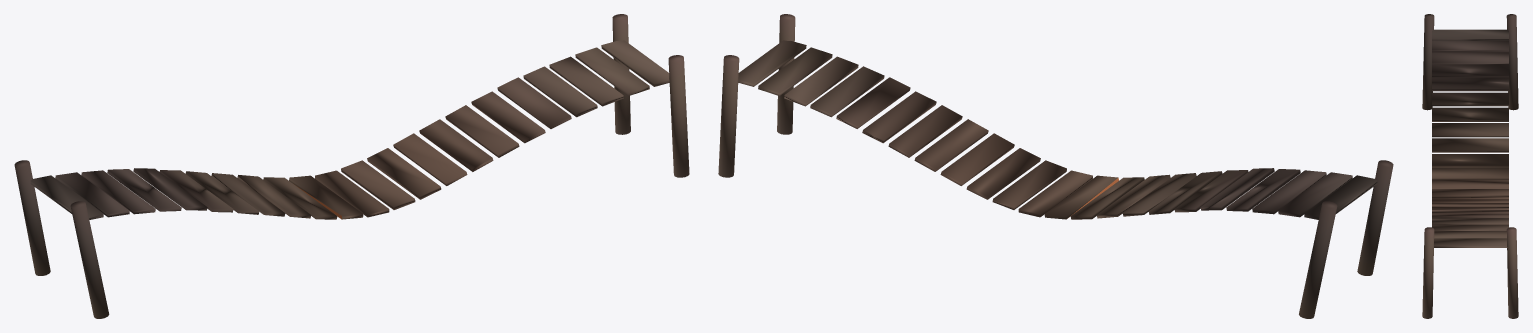
The model's file is WoodenShortWavyBridge.glb.
3 renders of one model, left to right at view 1: azimuth 30°, elevation 25°; view 2: azimuth 150°, elevation 25°; view 3: azimuth 270°, elevation 25°, orthographic. The views are drawn at different scales.
Visible parts, largest first — view 1: WoodenShortWavyBridge; view 2: WoodenShortWavyBridge; view 3: WoodenShortWavyBridge.
Part boxes in pixels (<box>): WoodenShortWavyBridge: <box>14,14,689,318</box>; WoodenShortWavyBridge: <box>718,14,1393,318</box>; WoodenShortWavyBridge: <box>1422,14,1518,318</box>.
Size of the model in its own units: 9.02 by 1.64 by 1.66.
Materials: 1 (1 with a texture image).
